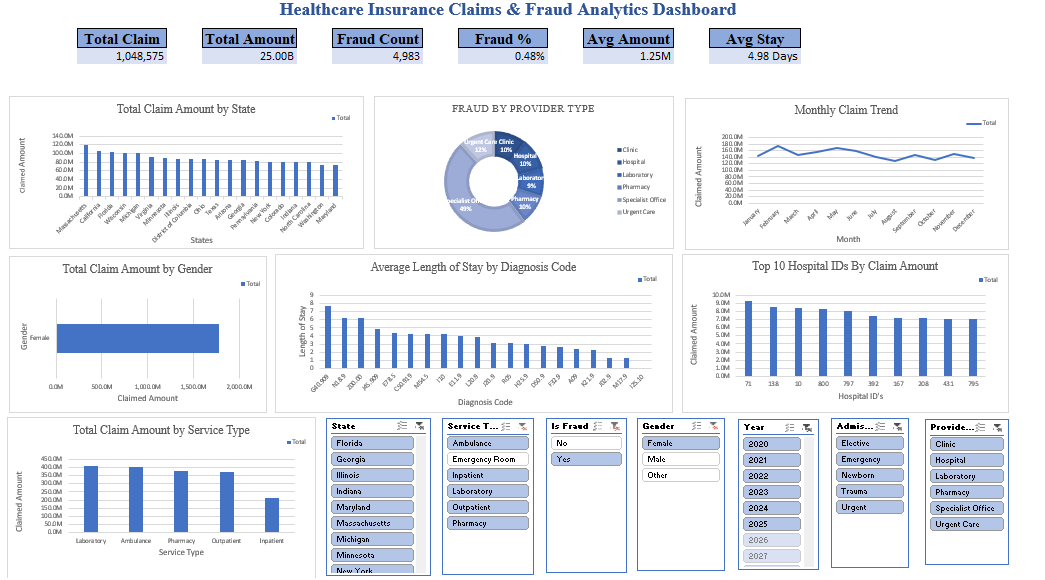

What the dashboard file says about the page in this screenshot:
{"tool":"powerbi","page":{"name":"Page 1","canvas":[1280,720],"ordinal":0},"visuals":[{"type":"cardVisual","title":"Fraud %","fields":{"Data":["Cleaned_Data.Fraud %"]},"box":[19.4,76.1,187.8,89.1],"z":0},{"type":"cardVisual","title":"Fraud Claims","fields":{"Data":["Cleaned_Data.Fraud Claims"]},"box":[223.5,76.1,195.9,89.1],"z":1000},{"type":"cardVisual","title":"Total Claim Amount","fields":{"Data":["Cleaned_Data.Total Claim Amount"]},"box":[437.2,76.1,202.4,89.1],"z":2000},{"type":"cardVisual","title":"Total Claims","fields":{"Data":["Cleaned_Data.Total Claims"]},"box":[663.9,76.1,192.7,89.1],"z":3000},{"type":"cardVisual","title":"Average Stay","fields":{"Data":["Cleaned_Data.Average Stay"]},"box":[871.1,76.1,181.4,89.1],"z":4000},{"type":"cardVisual","title":"Average Claim","fields":{"Data":["Cleaned_Data.Average Claim"]},"box":[1068.7,77.7,195.9,87.4],"z":5000},{"type":"textbox","box":[0,0,1279.4,49.1],"z":6000},{"type":"clusteredColumnChart","title":"Total Claim Amount by State","fields":{"Category":["Cleaned_Data.Patient_State_Name"],"Y":["Sum(Cleaned_Data.Claim_Amount)"]},"box":[19.4,176.5,502,263.9],"z":7000},{"type":"donutChart","title":"Fraud by Provider Type","fields":{"Category":["Cleaned_Data.Provider_Type"],"Y":["Cleaned_Data.Fraud Claims"]},"box":[534.3,176.5,388.6,263.9],"z":8000},{"type":"lineChart","title":"Monthly Claim Trend","fields":{"Category":["Cleaned_Data.Claim_Month"],"Series":["Cleaned_Data.Year"],"Y":["Sum(Cleaned_Data.Claim_Amount)"]},"box":[935.9,176.5,331.9,263.9],"z":9000},{"type":"barChart","title":"Top Hospitals by Claim Amount","fields":{"Y":["Sum(Cleaned_Data.Claim_Amount)"],"Category":["Cleaned_Data.Hospital_ID"]},"box":[19,451,502,253],"z":10000},{"type":"columnChart","title":"Top Diagnosis Codes by Average Stay","fields":{"Y":["Avg(Cleaned_Data.Length_of_Stay_Days)"],"Category":["Cleaned_Data.Diagnosis_Code"]},"box":[534,451,389,253],"z":11000},{"type":"slicer","title":"Year","fields":{"Values":["Cleaned_Data.Year"]},"box":[935.9,451.8,147.3,69.6],"z":12000},{"type":"slicer","title":"Patients state","fields":{"Values":["Cleaned_Data.Patient_State_Name"]},"box":[1101.1,451.8,166.8,69.6],"z":13000},{"type":"slicer","title":"Service type","fields":{"Values":["Cleaned_Data.Service_Type"]},"box":[935.9,542.4,147.3,71.2],"z":16000},{"type":"slicer","title":"Provider Speciality","fields":{"Values":["Cleaned_Data.Provider_Specialty"]},"box":[1102.7,536,165.2,71.2],"z":17000},{"type":"slicer","title":"Patient Gender","fields":{"Values":["Cleaned_Data.Patient_Gender"]},"box":[935.9,634.7,147.3,69.6],"z":18000},{"type":"slicer","title":"Admission Type","fields":{"Values":["Cleaned_Data.Admission_Type"]},"box":[1102.7,634.7,161.9,69.6],"z":19000}]}

Visuals, with their boxes in screenshot pixels (x1, y1, x2, y2), scaled from the page's 1280x720 canvas onto the 1045x580 screenshot:
"Fraud %" cardVisual: 16:61:169:133
"Fraud Claims" cardVisual: 182:61:342:133
"Total Claim Amount" cardVisual: 357:61:522:133
"Total Claims" cardVisual: 542:61:699:133
"Average Stay" cardVisual: 711:61:859:133
"Average Claim" cardVisual: 872:63:1032:133
textbox: 0:0:1044:40
"Total Claim Amount by State" clusteredColumnChart: 16:142:426:355
"Fraud by Provider Type" donutChart: 436:142:753:355
"Monthly Claim Trend" lineChart: 764:142:1035:355
"Top Hospitals by Claim Amount" barChart: 16:363:425:567
"Top Diagnosis Codes by Average Stay" columnChart: 436:363:754:567
"Year" slicer: 764:364:884:420
"Patients state" slicer: 899:364:1035:420
"Service type" slicer: 764:437:884:494
"Provider Speciality" slicer: 900:432:1035:489
"Patient Gender" slicer: 764:511:884:567
"Admission Type" slicer: 900:511:1032:567
